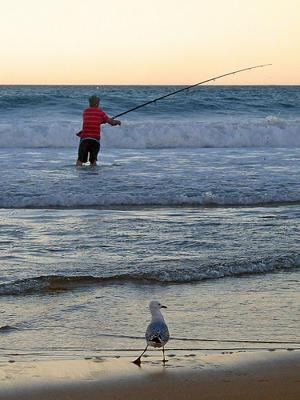person: (77, 96, 122, 167)
